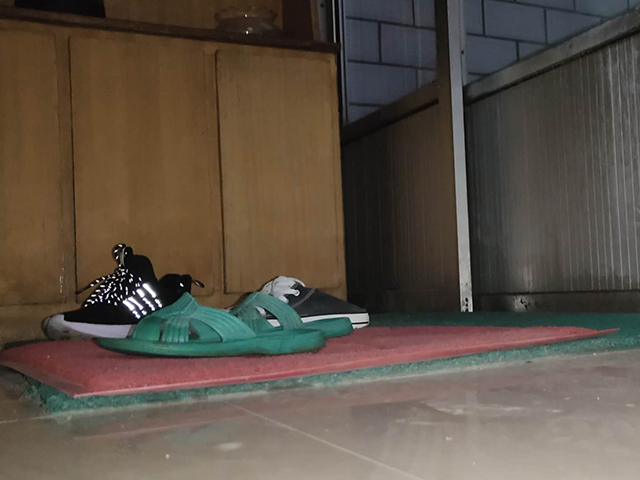cabinet: (1, 1, 350, 349)
carpet: (1, 309, 640, 414)
slippers: (93, 289, 320, 360), (227, 290, 354, 336)
